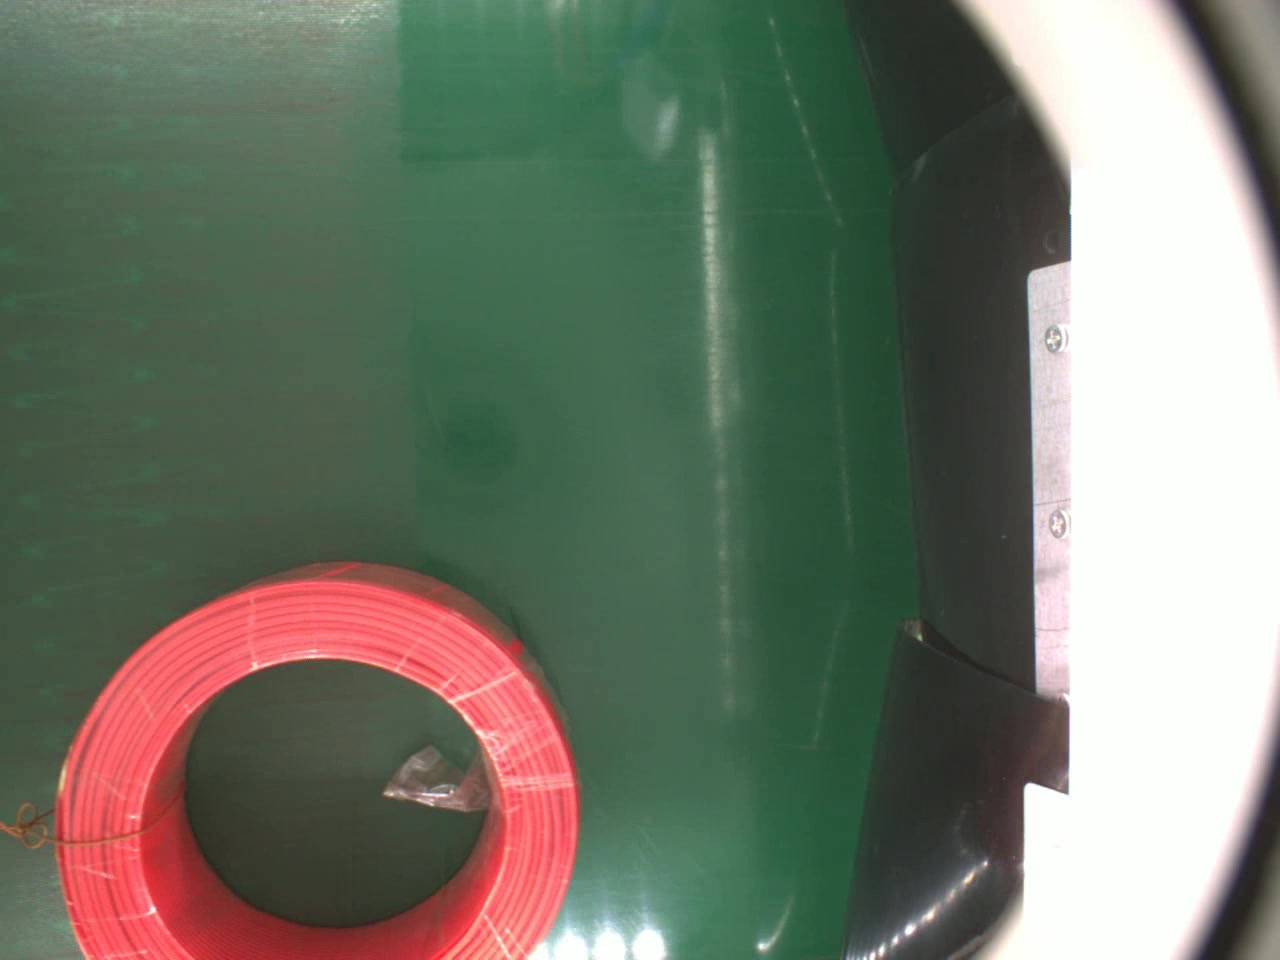red: (56, 557, 584, 960)
